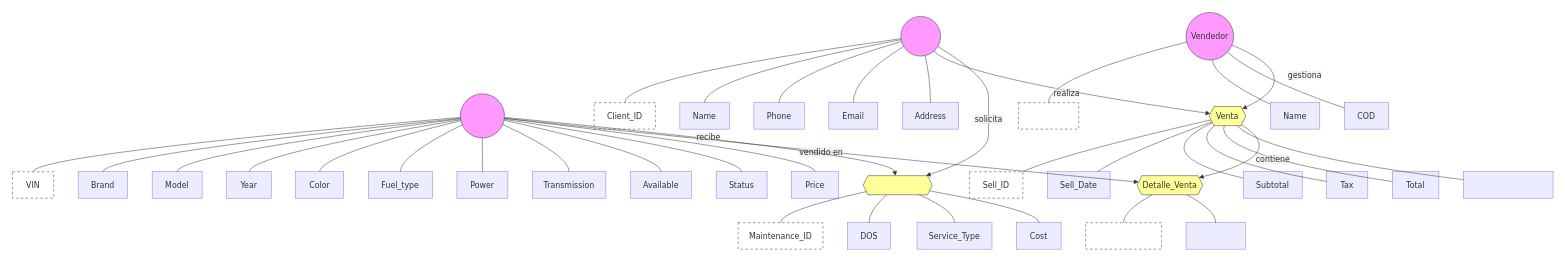
Image size: 1562x258. Some labels were removed from this diagram. The shapes that lost their labels are listed below. From the top down, each one's box as (x1, y1, x2, y2) in pixels, then its label:
(900, 16, 941, 56): Cliente
(460, 93, 504, 138): Vehiculo
(1018, 102, 1079, 129): Seller_ID
(863, 175, 932, 195): Mantenimiento
(1463, 171, 1553, 198): Payment_Method
(1085, 222, 1162, 249): SaleDetail_ID
(1186, 222, 1245, 249): Discount
